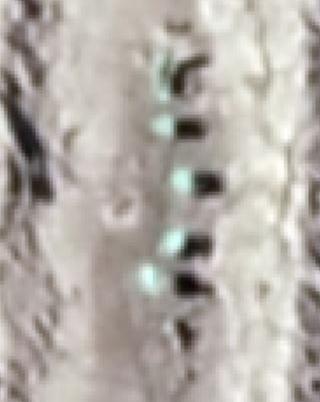cotton: (141, 265, 162, 289), (163, 228, 184, 251), (155, 66, 171, 96), (154, 112, 173, 134), (175, 169, 192, 191)
